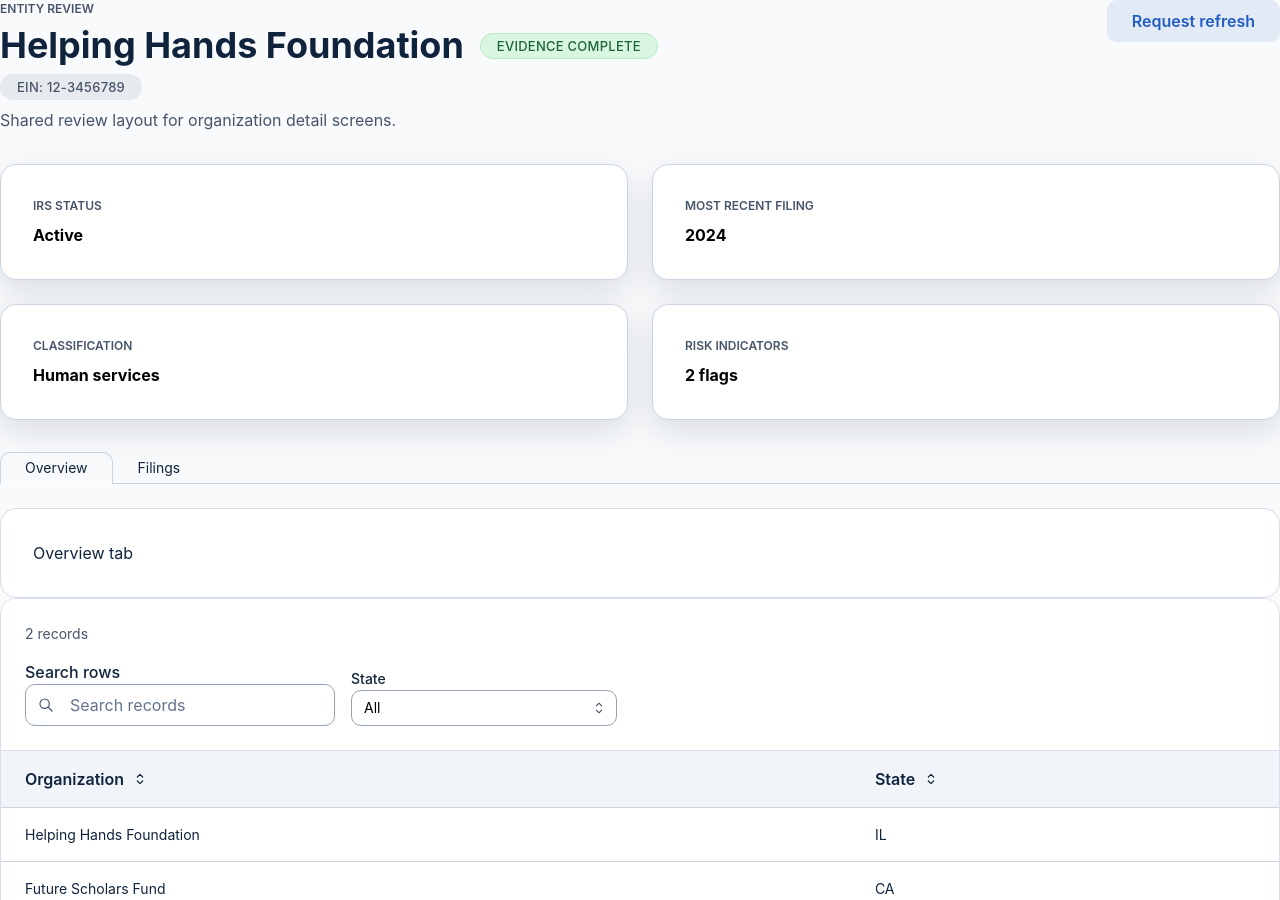
Test case: phase 18 shared foundations › renders entity detail, onboarding, marketing, and interactive table patterns
The width and height of the screenshot is (1280, 900).
In the field labelled "Search rows": (180, 705) [25,684,335,726], type "Future"
(page scrolled)
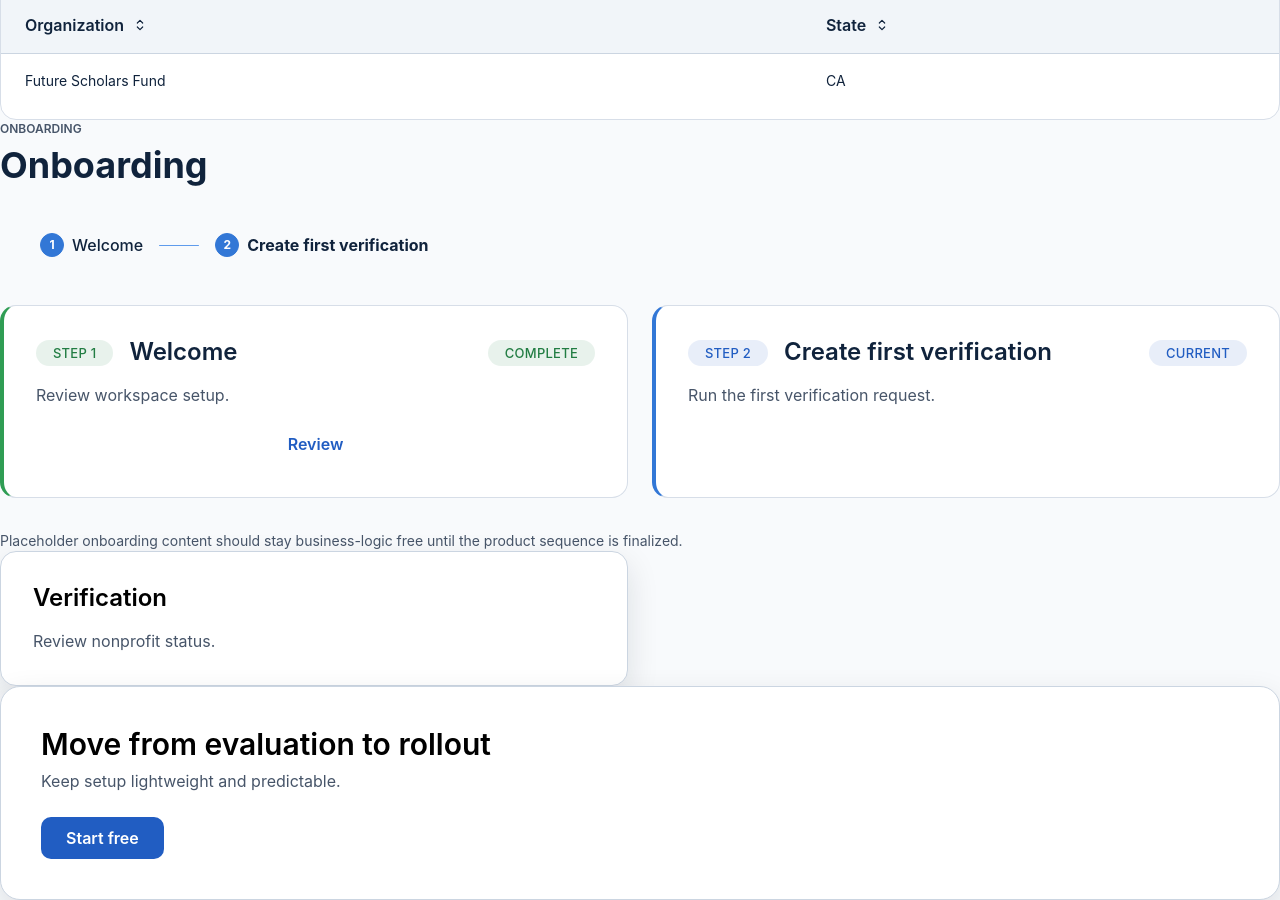
Expected: the heading "Onboarding" is shown, [0,146,208,185]
Now the text "Future Scholars Fund" is shown, box [1,53,802,107]
